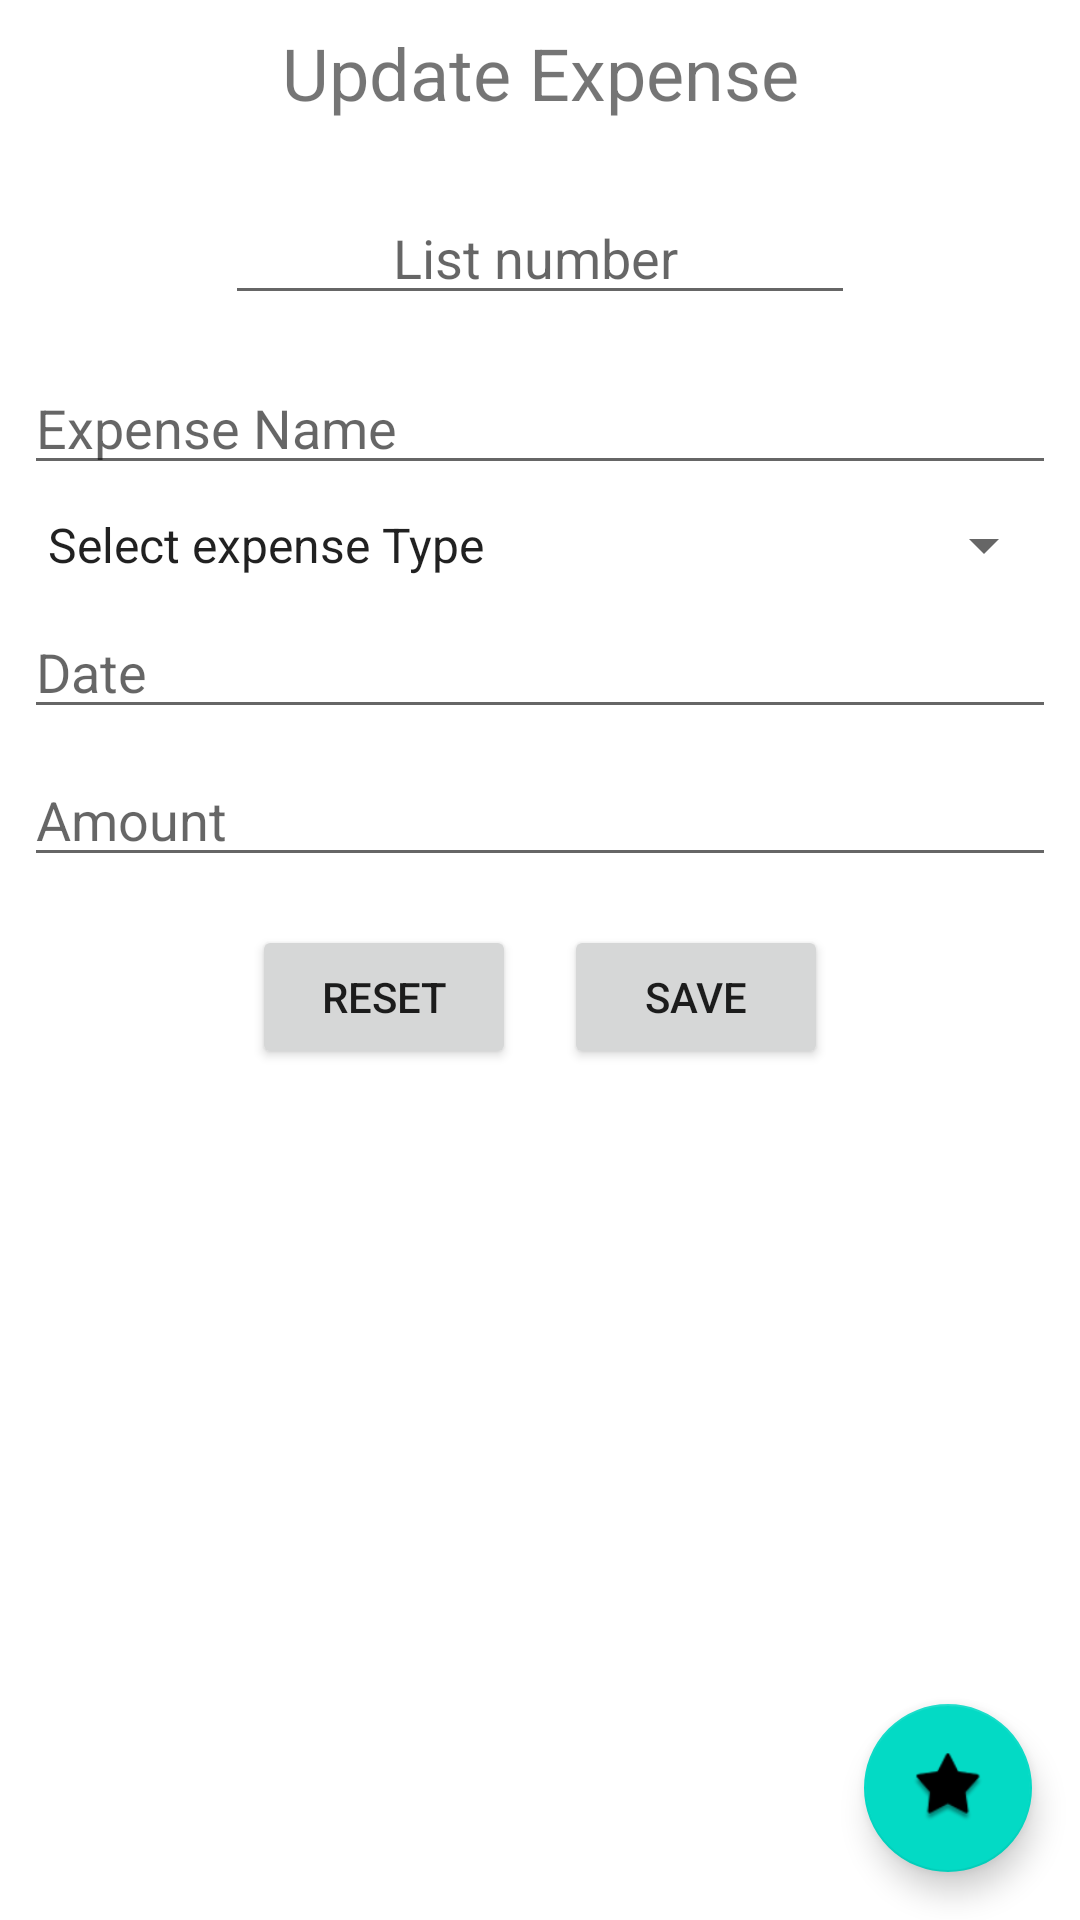

Icons on this 1080*1920 Android screen, each with the point to tap as (x,y):
star on: (948,1788)
